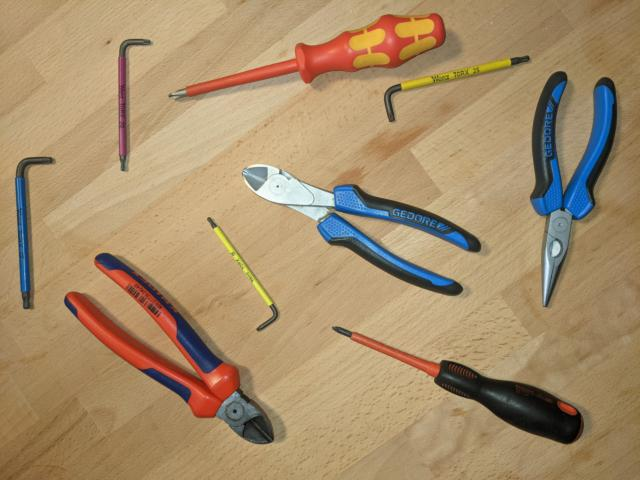Inbusschlüssel: (382, 50, 533, 125), (203, 213, 281, 333), (12, 153, 57, 311), (114, 35, 156, 175)
Schraubendreher: (328, 321, 587, 448), (164, 8, 449, 103)
Seitenschneider: (62, 250, 278, 448), (239, 160, 484, 298)
Zange: (524, 69, 619, 311)
